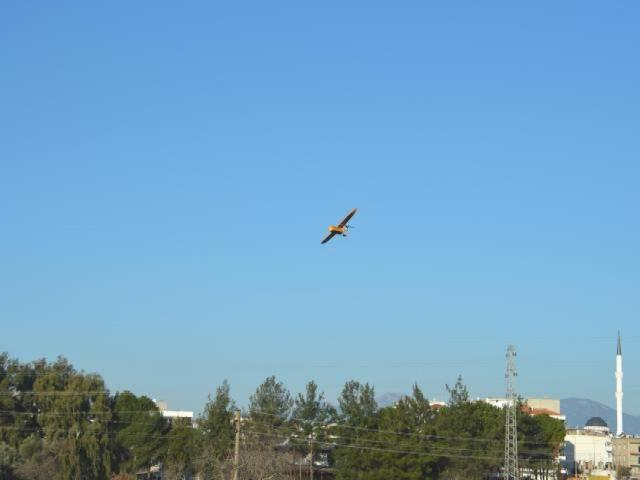iha: (322, 210, 355, 244)
